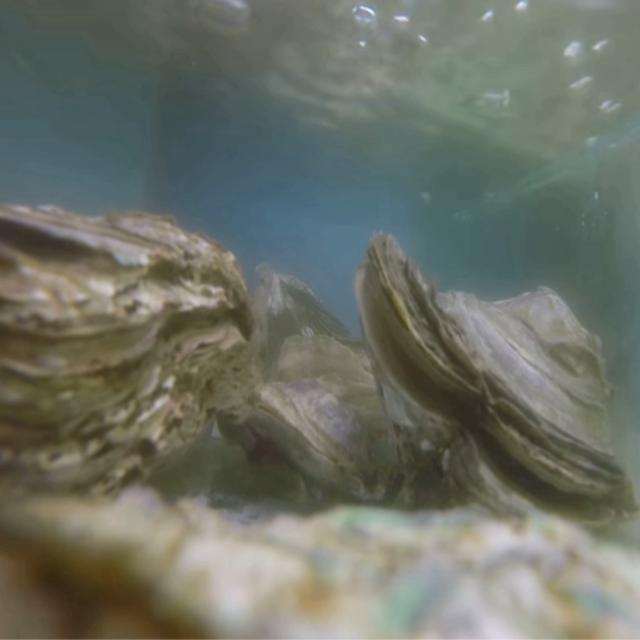Oyster-Closed: (0, 203, 256, 528), (256, 336, 414, 513)
Oyster-Indeterminate: (0, 488, 640, 640), (254, 255, 370, 372)
Oyster-Open: (356, 235, 640, 546)
